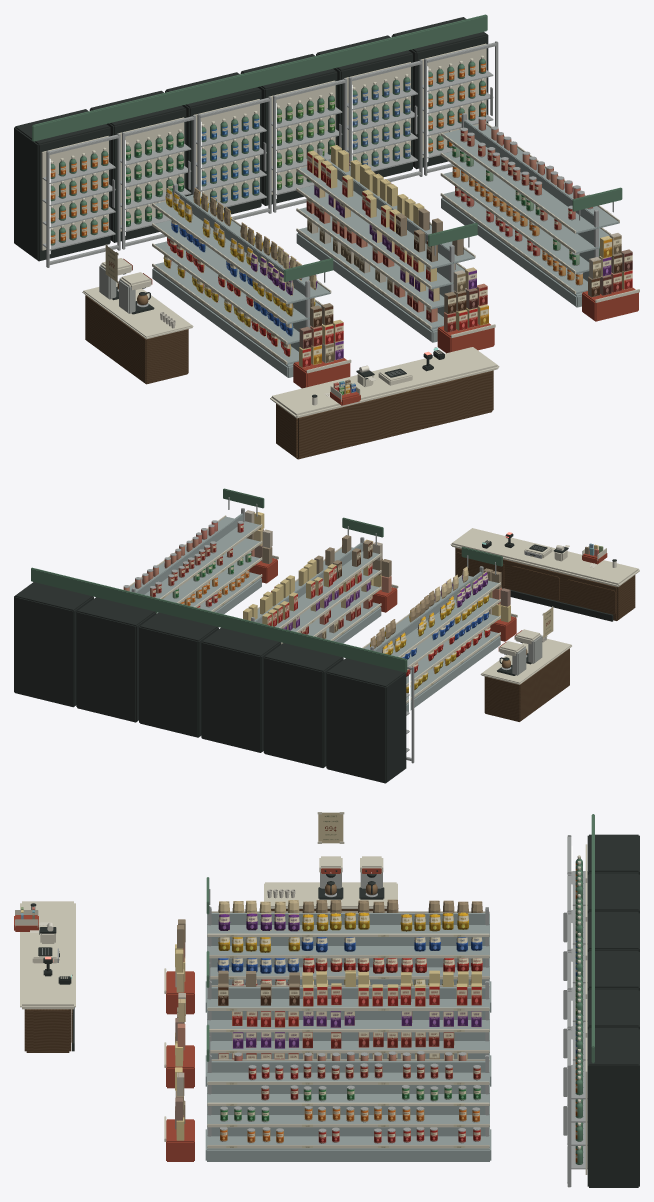
Rendered from retail.glb.
3 renders of one model, top to bottom at view 1: azimuth 30°, elevation 25°; view 2: azimuth 150°, elevation 25°; view 3: azimuth 270°, elevation 25°, orthographic. The views are drawn at different scales.
Parts seen in each view (by area): view 1: retail; view 2: retail; view 3: retail.
Boxes of the visible parts, box(x1,y1,x2,y2) form: retail: box(14, 14, 639, 459); retail: box(14, 488, 639, 783); retail: box(14, 812, 639, 1187).
Bounding box in the file's own units: 10.4 × 2.69 × 10.73.
33 materials, 4 textured.
